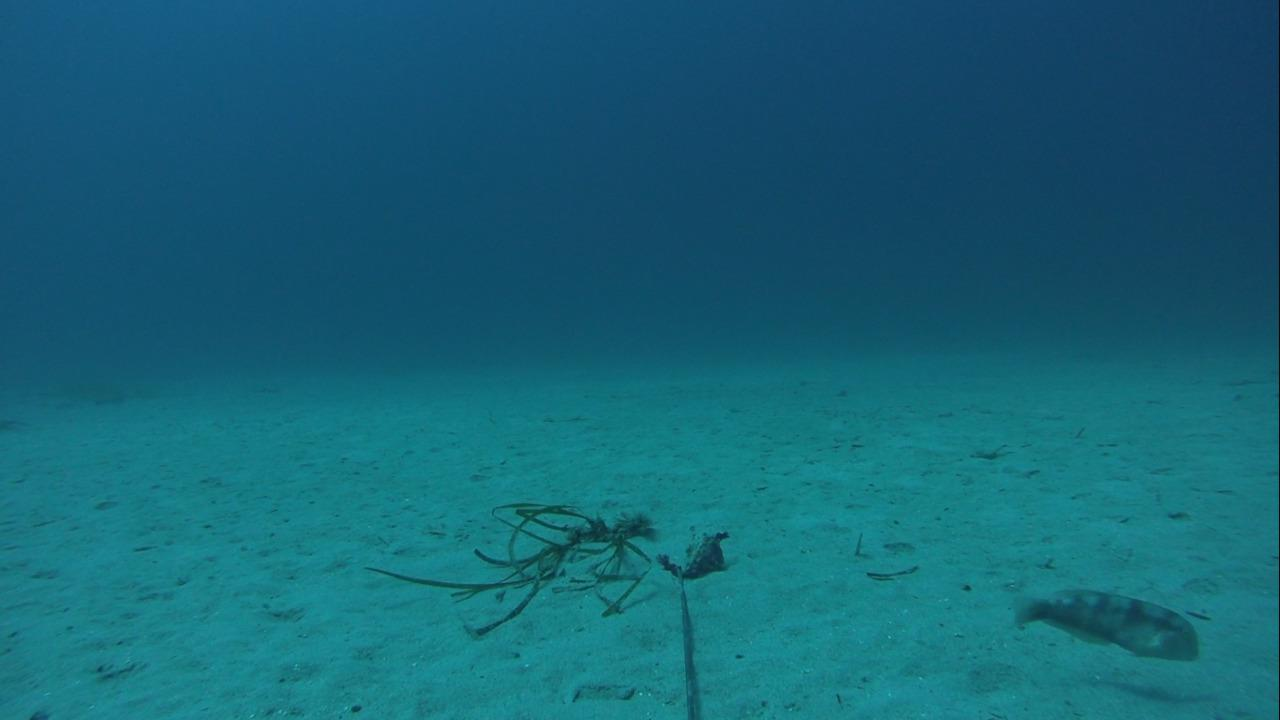raor: (1007, 585, 1204, 668)
